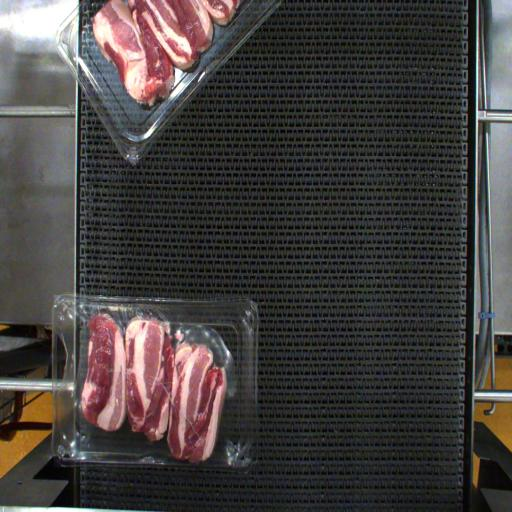unsealed: (54, 292, 238, 462)
